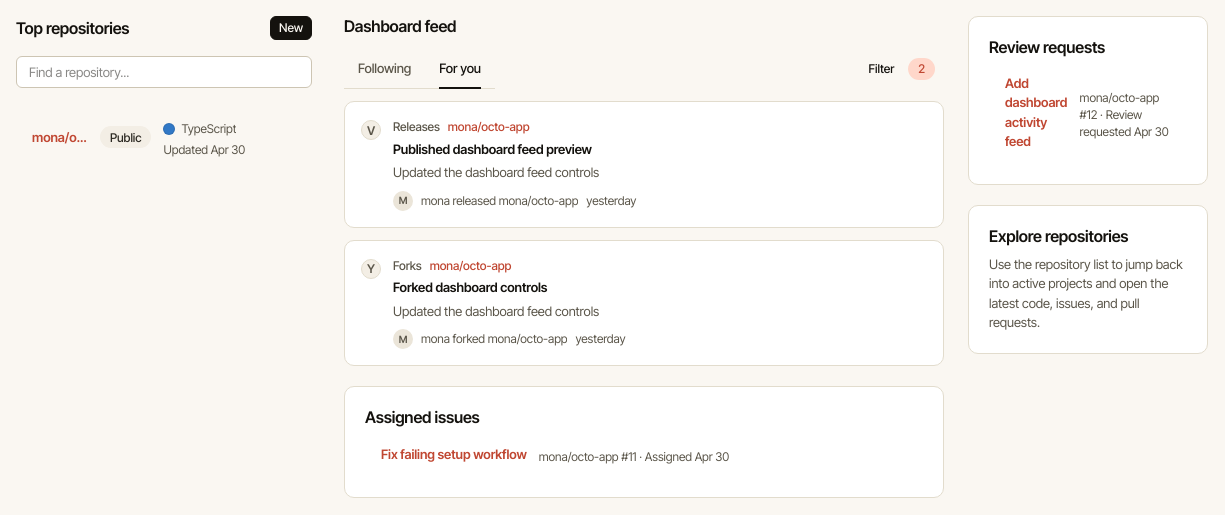
dashboard onboarding › renders selected feed filters and event cards from dashboard API rows
Click the heading "Filter 2". click: point(881, 69)
box: left=869, top=58, right=935, bottom=80
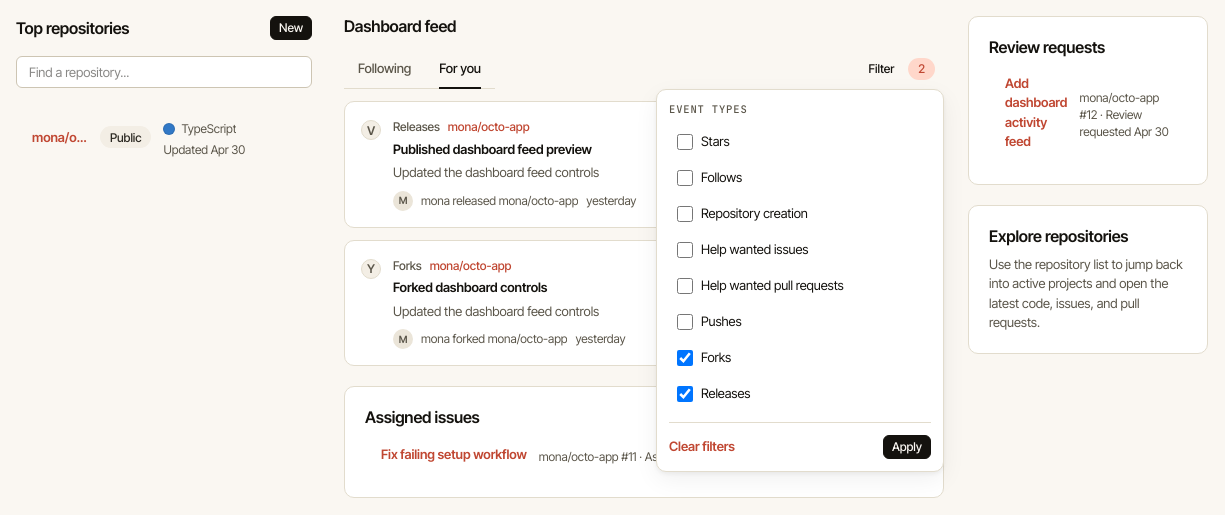
Now the checkbox labelled "Releases" is checked, box left=677, top=386, right=693, bottom=402
Now the checkbox labelled "Forks" is checked, box left=677, top=350, right=693, bottom=366
Now the checkbox labelled "Pushes" is not checked, box left=677, top=314, right=693, bottom=330
